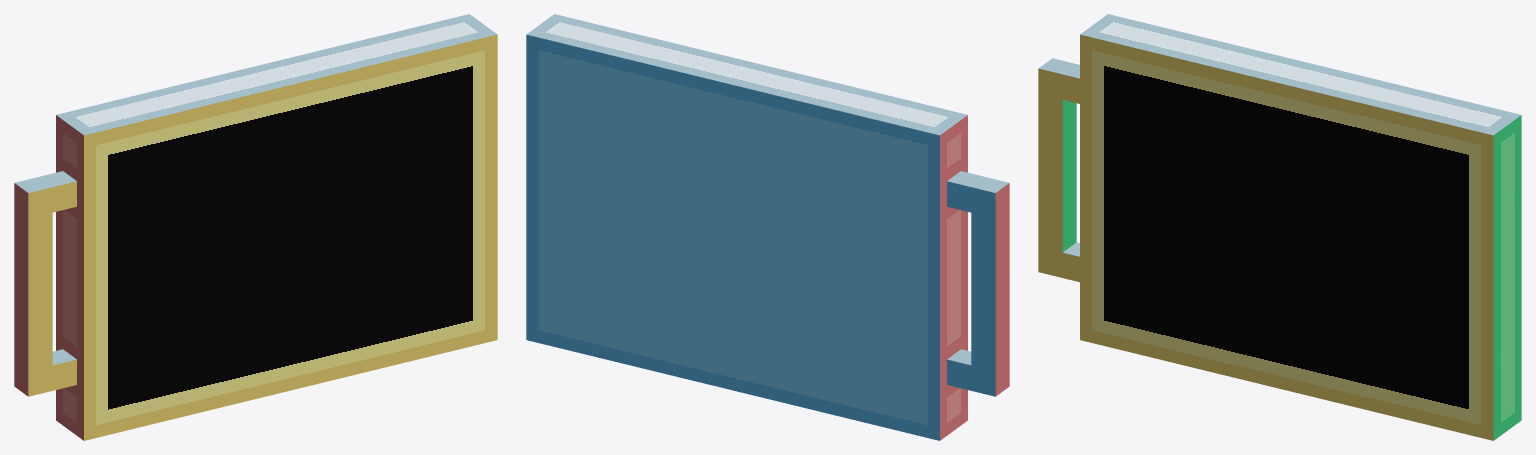
The model's file is monitor_30x20.glb.
3 views of the same model, side by side, from view 1: azimuth 30°, elevation 25°; view 2: azimuth 150°, elevation 25°; view 3: azimuth 330°, elevation 25° (orthographic).
Parts seen in each view (by area): view 1: cube (×4); view 2: cube (×4); view 3: cube (×4).
Boxes of the visible parts, x1,y1,x2,y2 form: cube (×4): (14, 14, 497, 440); cube (×4): (526, 14, 1009, 440); cube (×4): (1038, 14, 1521, 440).
Size of the model in its own units: 2.38 by 1.5 by 0.25.
1 material, 1 textured.
